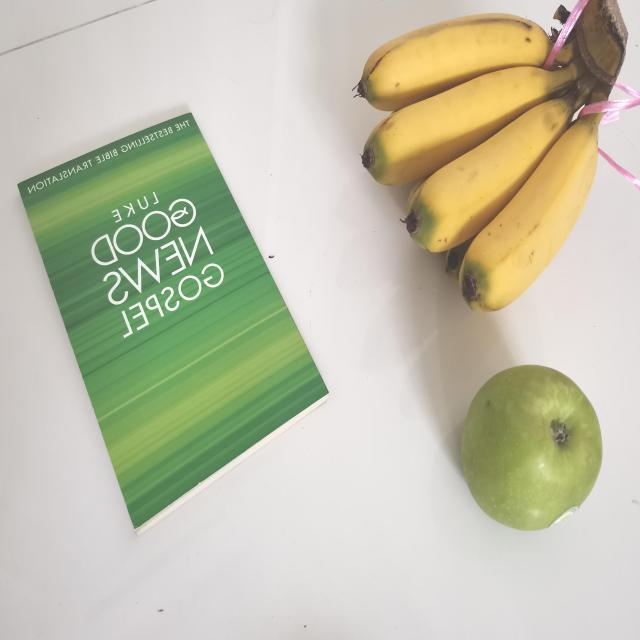Apple: (454, 363, 604, 533)
Banana: (353, 0, 630, 319)
Book: (15, 110, 333, 536)
